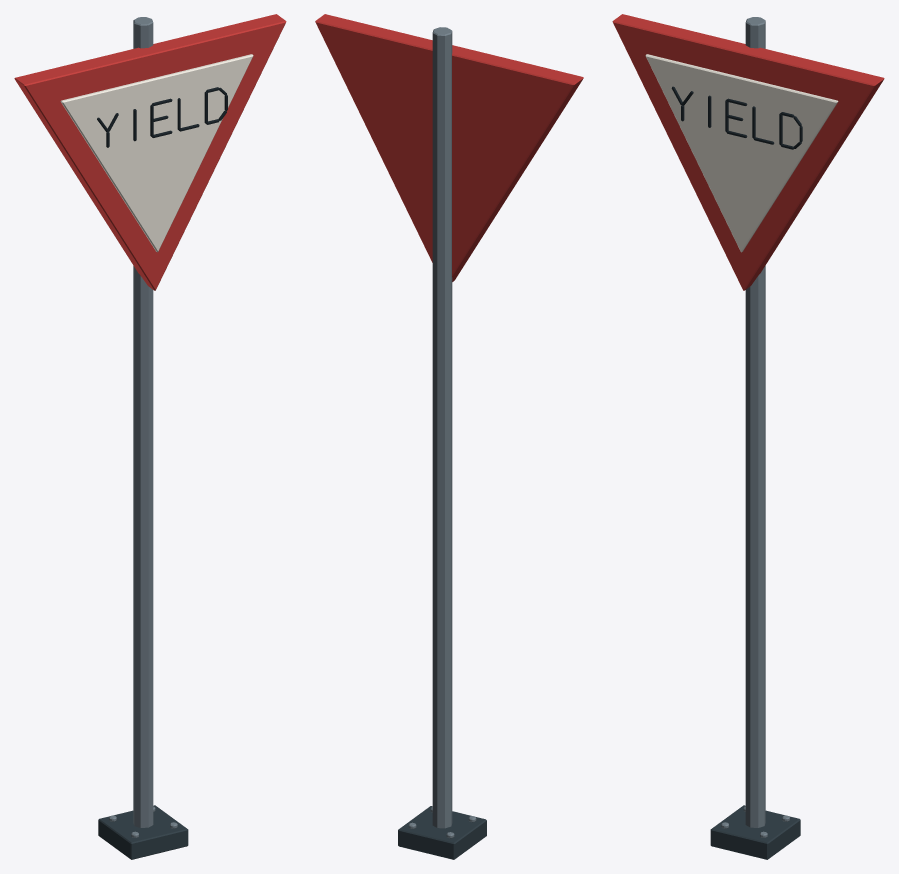
File: b02_yield_sign.glb
The picture shows the model from 3 angles, left to right: view 1: azimuth 30°, elevation 25°; view 2: azimuth 150°, elevation 25°; view 3: azimuth 330°, elevation 25°; orthographic projection.
Parts seen in each view (by area): view 1: b02_yield_sign; view 2: b02_yield_sign; view 3: b02_yield_sign.
Boxes of the visible parts, x1,y1,x2,y2 form: b02_yield_sign: (14,14,286,859); b02_yield_sign: (315,14,583,859); b02_yield_sign: (612,14,884,859).
Bounding box in the file's own units: 0.817 × 2.44 × 0.1949.
